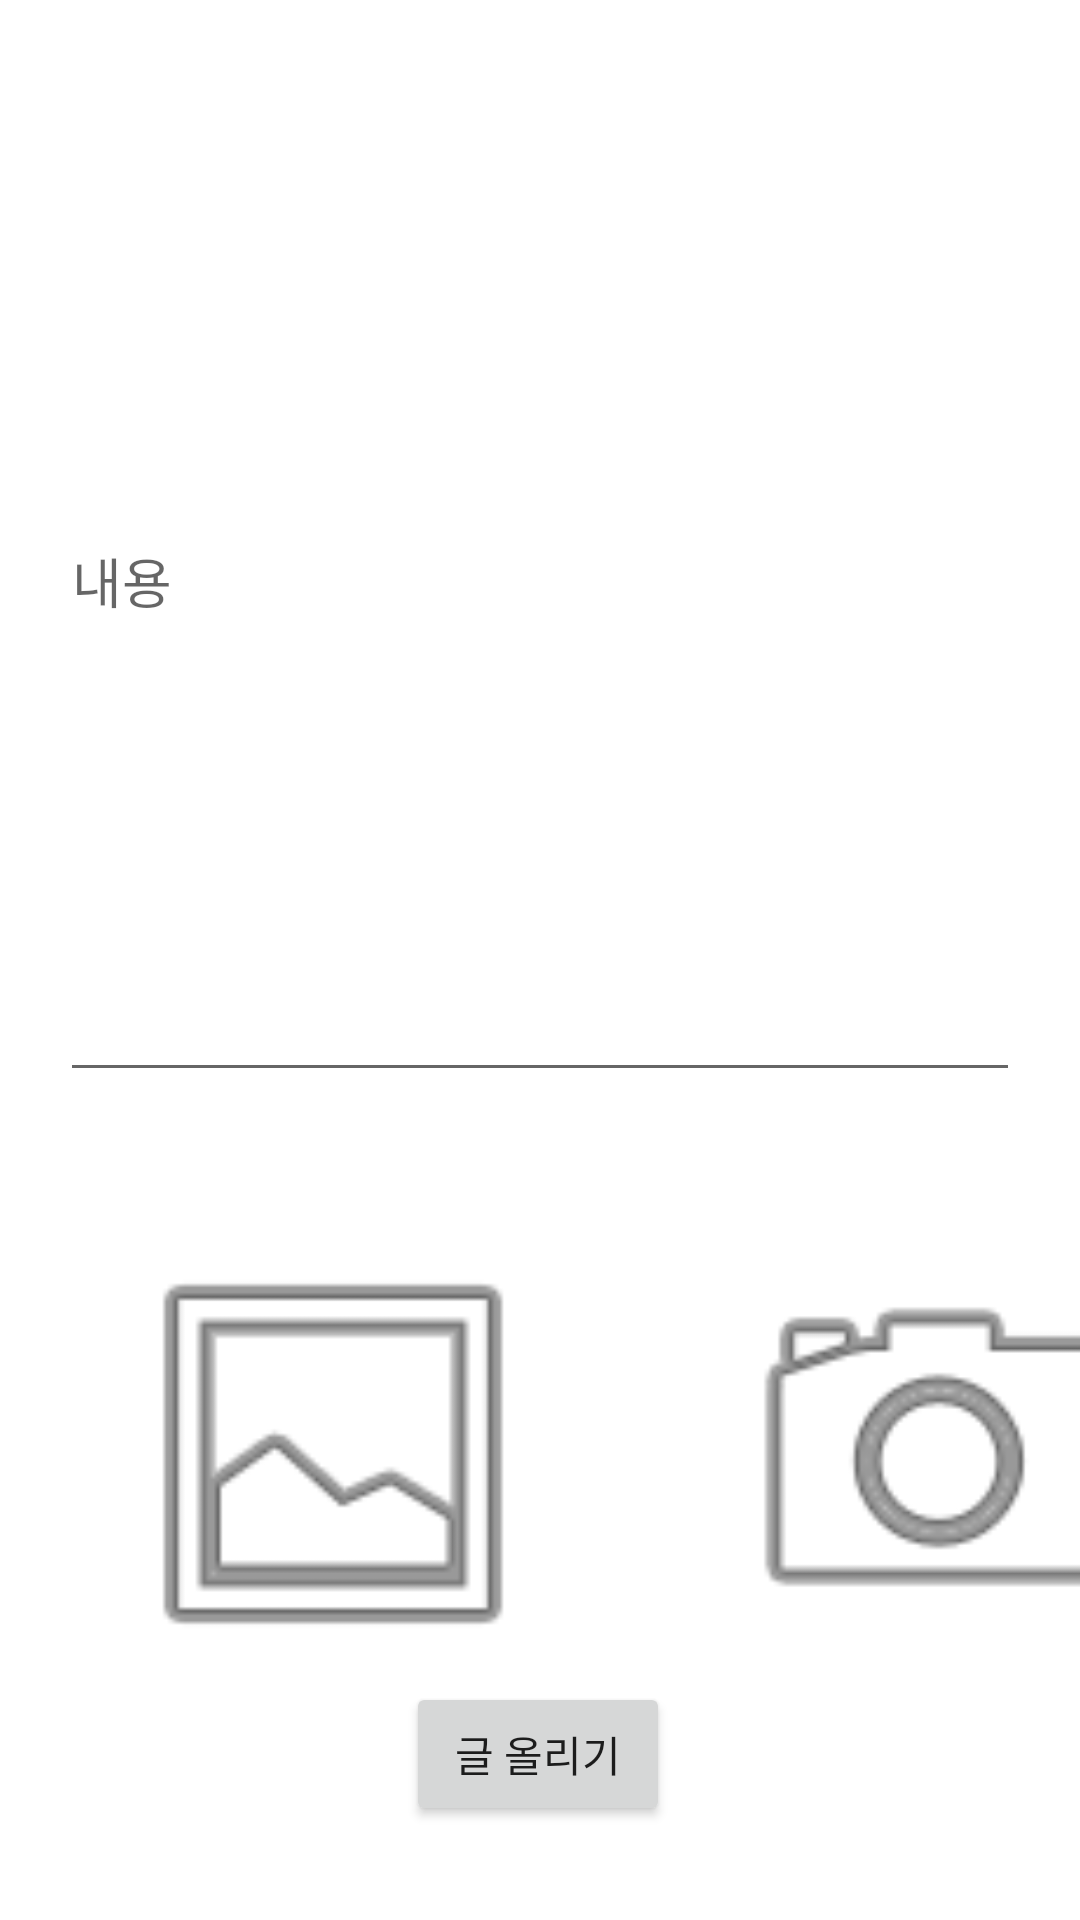

Screen size 1080px×1920px. Icon name, then its center in pixels as (x,y):
gallery: (333,1454)
